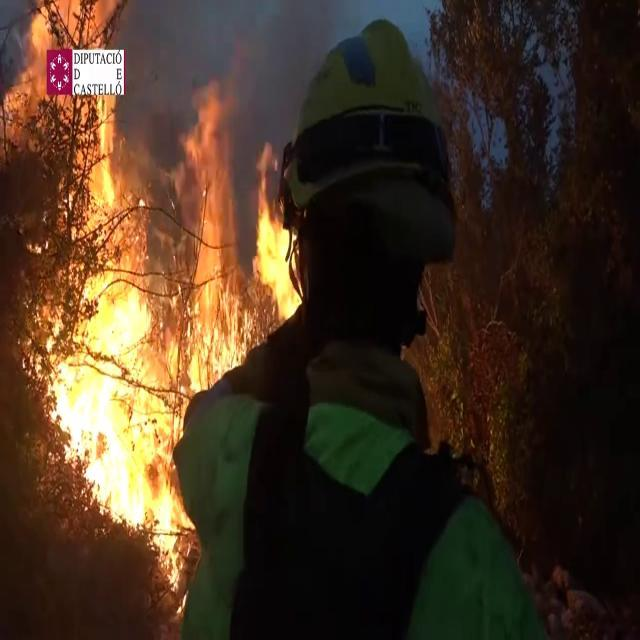Fire: (36, 87, 256, 579), (250, 159, 306, 333)
